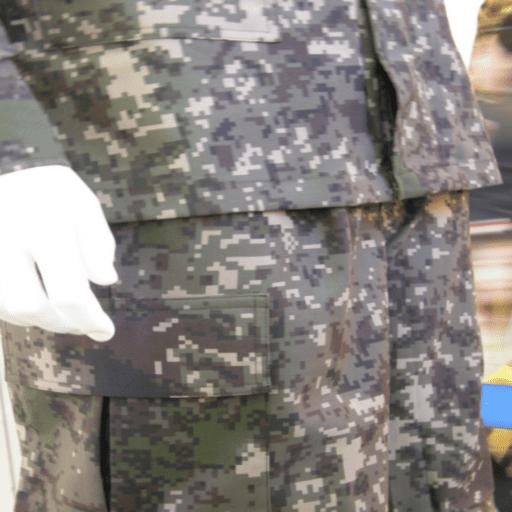korea army: (1, 0, 504, 510)
